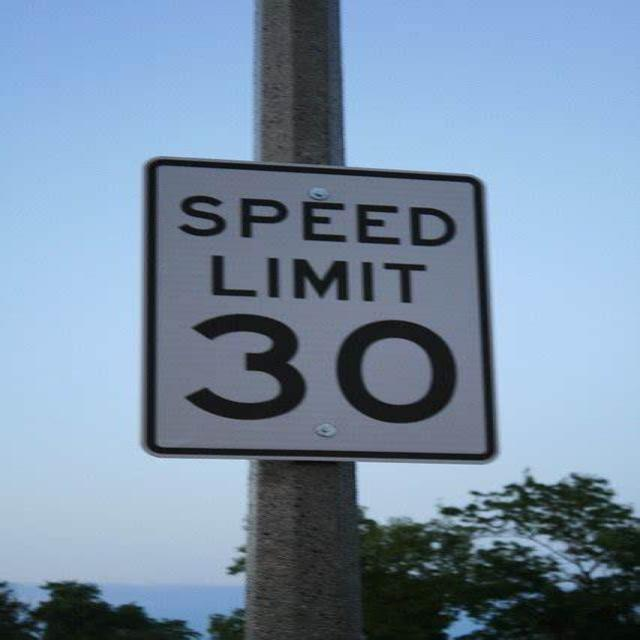speedLimit35: (136, 152, 495, 454)
